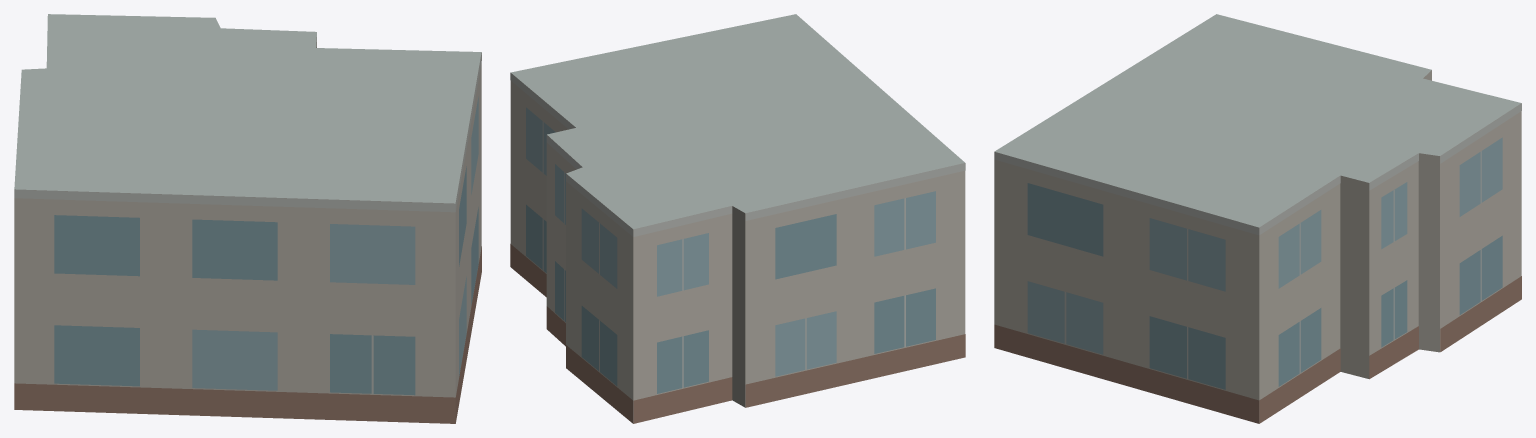
Rendered from survey-upis-32601727.glb.
3 renders of one model, left to right at view 1: azimuth 30°, elevation 25°; view 2: azimuth 150°, elevation 25°; view 3: azimuth 270°, elevation 25°, orthographic. The views are drawn at different scales.
Parts seen in each view (by area): view 1: survey-upis-32601727.tmp; view 2: survey-upis-32601727.tmp; view 3: survey-upis-32601727.tmp.
Boxes of the visible parts, x1,y1,x2,y2 form: survey-upis-32601727.tmp: (14,14,481,423); survey-upis-32601727.tmp: (510,14,965,423); survey-upis-32601727.tmp: (994,14,1521,423).
Size of the model in its own units: 14.24 by 6.1 by 14.86.
